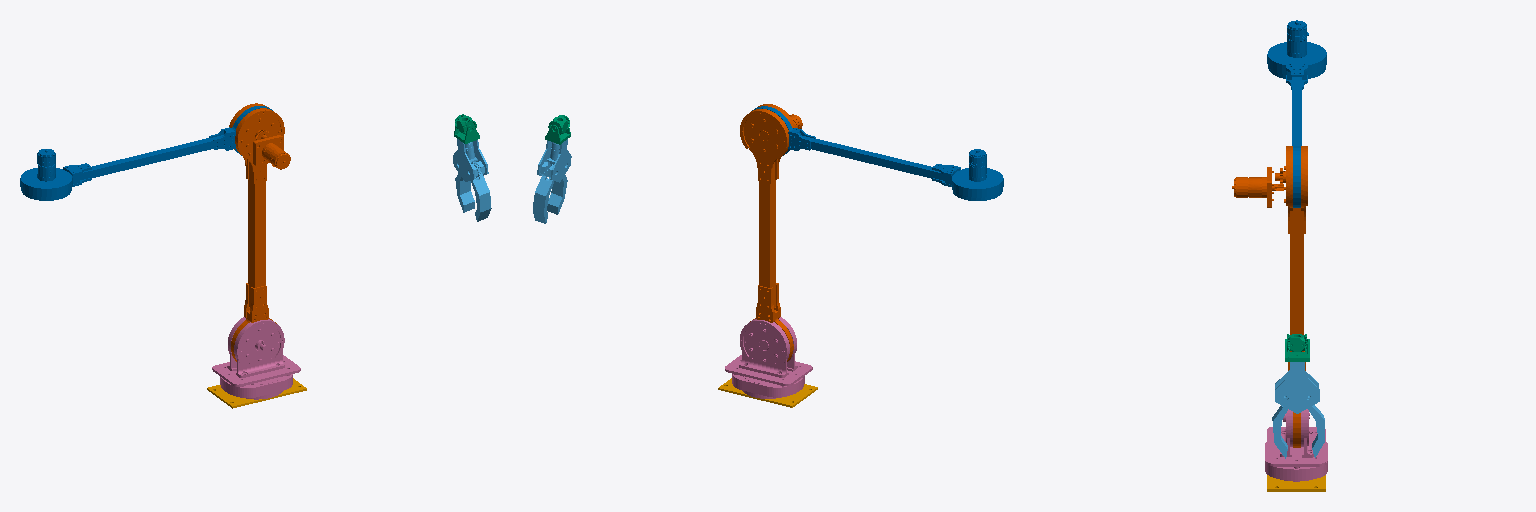
URDF robot description (URDF):
<?xml version="1.0" ?>
<robot name="URDF">

<material name="silver">
  <color rgba="0.700 0.700 0.700 1.000"/>
</material>

<link name="base_link">
  <inertial>
    <origin xyz="4.134574372160573e-14 -1.9697829309959846e-17 -0.0025" rpy="0 0 0"/>
    <mass value="0.9061320027414785"/>
    <inertia ixx="0.0011148442513439273" iyy="0.003073148326209344" izz="0.004184217027541849" ixy="7.139533408910106e-19" iyz="-4.462208380573429e-20" ixz="-1.232595164407831e-32"/>
  </inertial>
  <visual>
    <origin xyz="0 0 0" rpy="0 0 0"/>
    <geometry>
      <mesh filename="meshes/base_link.stl" scale="0.001 0.001 0.001"/>
    </geometry>
    <material name="silver"/>
    <material/>
  </visual>
  <collision>
    <origin xyz="0 0 0" rpy="0 0 0"/>
    <geometry>
      <mesh filename="meshes/base_link.stl" scale="0.001 0.001 0.001"/>
    </geometry>
  </collision>
</link>

<link name="hand_v111">
  <inertial>
    <origin xyz="0.013399974863583353 0.0014673587274294318 -0.10494199895736095" rpy="0 0 0"/>
    <mass value="1.5734552063055838"/>
    <inertia ixx="0.005827888610414889" iyy="0.004512634007797889" izz="0.0018811830424321774" ixy="1.684683106096879e-05" iyz="0.00015213115592073293" ixz="0.0005095337397744704"/>
  </inertial>
  <visual>
    <origin xyz="0.560233 -0.001221 -0.509635" rpy="0 0 0"/>
    <geometry>
      <mesh filename="meshes/hand_v111.stl" scale="0.001 0.001 0.001"/>
    </geometry>
    <material name="silver"/>
    <material/>
  </visual>
  <collision>
    <origin xyz="0.560233 -0.001221 -0.509635" rpy="0 0 0"/>
    <geometry>
      <mesh filename="meshes/hand_v111.stl" scale="0.001 0.001 0.001"/>
    </geometry>
  </collision>
</link>

<link name="J5to6_v111">
  <inertial>
    <origin xyz="0.0014998156879051372 4.651259435907982e-05 -0.012405591131645632" rpy="0 0 0"/>
    <mass value="0.35001351454511986"/>
    <inertia ixx="0.00015735906684131995" iyy="0.00012056272744911944" izz="0.00011199297706979139" ixy="4.551893305118344e-07" iyz="-9.40434411947225e-09" ixz="6.291595880350553e-06"/>
  </inertial>
  <visual>
    <origin xyz="0.564546 -0.001126 -0.54336" rpy="0 0 0"/>
    <geometry>
      <mesh filename="meshes/J5to6_v111.stl" scale="0.001 0.001 0.001"/>
    </geometry>
    <material name="silver"/>
    <material/>
  </visual>
  <collision>
    <origin xyz="0.564546 -0.001126 -0.54336" rpy="0 0 0"/>
    <geometry>
      <mesh filename="meshes/J5to6_v111.stl" scale="0.001 0.001 0.001"/>
    </geometry>
  </collision>
</link>

<link name="J4to5_v111">
  <inertial>
    <origin xyz="6.804744117183681e-06 0.0005227247602343128 -0.029392065957235425" rpy="0 0 0"/>
    <mass value="4.55070610869959"/>
    <inertia ixx="0.006605063772559205" iyy="0.007372513516280765" izz="0.006030026661363097" ixy="-0.00014257460668079362" iyz="0.0001476778562341241" ixz="-6.699233237927871e-06"/>
  </inertial>
  <visual>
    <origin xyz="0.563444 -0.00115 -0.6375" rpy="0 0 0"/>
    <geometry>
      <mesh filename="meshes/J4to5_v111.stl" scale="0.001 0.001 0.001"/>
    </geometry>
    <material name="silver"/>
    <material/>
  </visual>
  <collision>
    <origin xyz="0.563444 -0.00115 -0.6375" rpy="0 0 0"/>
    <geometry>
      <mesh filename="meshes/J4to5_v111.stl" scale="0.001 0.001 0.001"/>
    </geometry>
  </collision>
</link>

<link name="J3to4_v111">
  <inertial>
    <origin xyz="-0.4157580723258036 -1.528505906127852e-05 0.006491989161569012" rpy="0 0 0"/>
    <mass value="5.095305748645674"/>
    <inertia ixx="0.00498273335346866" iyy="0.21542063384156096" izz="0.2152159667442668" ixy="-1.1784222023251273e-05" iyz="2.0063157415307203e-06" ixz="0.004784669024316512"/>
  </inertial>
  <visual>
    <origin xyz="0.001 -0.00115 -0.655" rpy="0 0 0"/>
    <geometry>
      <mesh filename="meshes/J3to4_v111.stl" scale="0.001 0.001 0.001"/>
    </geometry>
    <material name="silver"/>
    <material/>
  </visual>
  <collision>
    <origin xyz="0.001 -0.00115 -0.655" rpy="0 0 0"/>
    <geometry>
      <mesh filename="meshes/J3to4_v111.stl" scale="0.001 0.001 0.001"/>
    </geometry>
  </collision>
</link>

<link name="J2to3_v211">
  <inertial>
    <origin xyz="0.0002441964978063141 -0.012514943272552637 0.42977520138921277" rpy="0 0 0"/>
    <mass value="6.769699046992388"/>
    <inertia ixx="0.2338505574541987" iyy="0.23194401766464656" izz="0.011828487592585814" ixy="-1.5074859269826562e-05" iyz="0.0072162921549105835" ixz="0.0002321578378231665"/>
  </inertial>
  <visual>
    <origin xyz="0.001 -0.00115 -0.117" rpy="0 0 0"/>
    <geometry>
      <mesh filename="meshes/J2to3_v211.stl" scale="0.001 0.001 0.001"/>
    </geometry>
    <material name="silver"/>
    <material/>
  </visual>
  <collision>
    <origin xyz="0.001 -0.00115 -0.117" rpy="0 0 0"/>
    <geometry>
      <mesh filename="meshes/J2to3_v211.stl" scale="0.001 0.001 0.001"/>
    </geometry>
  </collision>
</link>

<link name="J1to2_v111">
  <inertial>
    <origin xyz="-0.0009792145863911212 0.0003228728553376847 0.05805748683050891" rpy="0 0 0"/>
    <mass value="8.776151756630489"/>
    <inertia ixx="0.027743709580449256" iyy="0.0346202144137127" izz="0.02105806526379412" ixy="-1.8975944281594924e-05" iyz="-0.0001396115762032384" ixz="0.000155329111539089"/>
  </inertial>
  <visual>
    <origin xyz="-0.0 -0.0 -0.0" rpy="0 0 0"/>
    <geometry>
      <mesh filename="meshes/J1to2_v111.stl" scale="0.001 0.001 0.001"/>
    </geometry>
    <material name="silver"/>
    <material/>
  </visual>
  <collision>
    <origin xyz="-0.0 -0.0 -0.0" rpy="0 0 0"/>
    <geometry>
      <mesh filename="meshes/J1to2_v111.stl" scale="0.001 0.001 0.001"/>
    </geometry>
  </collision>
</link>

<joint name="Revolute_1" type="continuous">
  <origin xyz="0.004313 9.5e-05 -0.033725" rpy="0 0 0"/>
  <parent link="J5to6_v111"/>
  <child link="hand_v111"/>
  <axis xyz="0.126869 0.002806 -0.991916"/>
</joint>
<transmission name="Revolute_1_tran">
  <type>transmission_interface/SimpleTransmission</type>
  <joint name="Revolute_1">
    <hardwareInterface>PositionJointInterface</hardwareInterface>
  </joint>
  <actuator name="Revolute_1_actr">
    <hardwareInterface>PositionJointInterface</hardwareInterface>
    <mechanicalReduction>1</mechanicalReduction>
  </actuator>
</transmission>

<joint name="Revolute_2" type="continuous">
  <origin xyz="-0.001102 -2.4e-05 -0.09414" rpy="0 0 0"/>
  <parent link="J4to5_v111"/>
  <child link="J5to6_v111"/>
  <axis xyz="0.022114 -0.999755 0.0"/>
</joint>
<transmission name="Revolute_2_tran">
  <type>transmission_interface/SimpleTransmission</type>
  <joint name="Revolute_2">
    <hardwareInterface>PositionJointInterface</hardwareInterface>
  </joint>
  <actuator name="Revolute_2_actr">
    <hardwareInterface>PositionJointInterface</hardwareInterface>
    <mechanicalReduction>1</mechanicalReduction>
  </actuator>
</transmission>

<joint name="Revolute_3" type="continuous">
  <origin xyz="0.562444 0.0 -0.0175" rpy="0 0 0"/>
  <parent link="J3to4_v111"/>
  <child link="J4to5_v111"/>
  <axis xyz="0.0 0.0 1.0"/>
</joint>
<transmission name="Revolute_3_tran">
  <type>transmission_interface/SimpleTransmission</type>
  <joint name="Revolute_3">
    <hardwareInterface>PositionJointInterface</hardwareInterface>
  </joint>
  <actuator name="Revolute_3_actr">
    <hardwareInterface>PositionJointInterface</hardwareInterface>
    <mechanicalReduction>1</mechanicalReduction>
  </actuator>
</transmission>

<joint name="Revolute_4" type="continuous">
  <origin xyz="0.0 0.0 0.538" rpy="0 0 0"/>
  <parent link="J2to3_v211"/>
  <child link="J3to4_v111"/>
  <axis xyz="0.0 1.0 -0.0"/>
</joint>
<transmission name="Revolute_4_tran">
  <type>transmission_interface/SimpleTransmission</type>
  <joint name="Revolute_4">
    <hardwareInterface>PositionJointInterface</hardwareInterface>
  </joint>
  <actuator name="Revolute_4_actr">
    <hardwareInterface>PositionJointInterface</hardwareInterface>
    <mechanicalReduction>1</mechanicalReduction>
  </actuator>
</transmission>

<joint name="Revolute_5" type="continuous">
  <origin xyz="-0.001 0.00115 0.117" rpy="0 0 0"/>
  <parent link="J1to2_v111"/>
  <child link="J2to3_v211"/>
  <axis xyz="-0.0 1.0 -0.0"/>
</joint>
<transmission name="Revolute_5_tran">
  <type>transmission_interface/SimpleTransmission</type>
  <joint name="Revolute_5">
    <hardwareInterface>PositionJointInterface</hardwareInterface>
  </joint>
  <actuator name="Revolute_5_actr">
    <hardwareInterface>PositionJointInterface</hardwareInterface>
    <mechanicalReduction>1</mechanicalReduction>
  </actuator>
</transmission>

<joint name="Revolute_6" type="continuous">
  <origin xyz="0.0 0.0 0.0" rpy="0 0 0"/>
  <parent link="base_link"/>
  <child link="J1to2_v111"/>
  <axis xyz="0.0 0.0 1.0"/>
</joint>
<transmission name="Revolute_6_tran">
  <type>transmission_interface/SimpleTransmission</type>
  <joint name="Revolute_6">
    <hardwareInterface>PositionJointInterface</hardwareInterface>
  </joint>
  <actuator name="Revolute_6_actr">
    <hardwareInterface>PositionJointInterface</hardwareInterface>
    <mechanicalReduction>1</mechanicalReduction>
  </actuator>
</transmission>

</robot>

--- What the picture shows (computed from the rendered views, not written in the file) ---
3 views of the same robot in one strip: view 1: azimuth 30°, elevation 25°; view 2: azimuth 150°, elevation 25°; view 3: azimuth 270°, elevation 25° (orthographic).
Model URDF with 7 links and 6 joints (6 continuous), rooted at base_link, posed every joint at zero.
Links seen in each view (by area): view 1: J2to3_v211, J1to2_v111, J3to4_v111, hand_v111, base_link, J5to6_v111; view 2: J2to3_v211, J1to2_v111, J3to4_v111, hand_v111, base_link, J5to6_v111; view 3: J2to3_v211, J3to4_v111, J1to2_v111, hand_v111, base_link, J5to6_v111.
Boxes of the visible links, <box> form: J2to3_v211: <box>229,103,290,361</box>; J1to2_v111: <box>212,317,300,399</box>; J3to4_v111: <box>20,106,272,200</box>; hand_v111: <box>453,139,491,221</box>; base_link: <box>207,378,306,408</box>; J5to6_v111: <box>454,114,479,143</box>; J2to3_v211: <box>740,104,802,361</box>; J1to2_v111: <box>725,317,812,398</box>; J3to4_v111: <box>752,106,1003,200</box>; hand_v111: <box>533,139,571,223</box>; base_link: <box>718,378,817,407</box>; J5to6_v111: <box>545,115,570,144</box>; J2to3_v211: <box>1232,146,1307,447</box>; J3to4_v111: <box>1267,20,1326,207</box>; J1to2_v111: <box>1265,409,1327,481</box>; hand_v111: <box>1272,362,1324,458</box>; base_link: <box>1267,475,1325,491</box>; J5to6_v111: <box>1285,334,1309,361</box>.
Size in the robot's own frame: 1.23 by 0.1955 by 0.7683 metres.
6 mesh visuals loaded from 7 distinct referenced files (6 binary STL); not drawn: 1 (reference not matched to a file when rendering).
